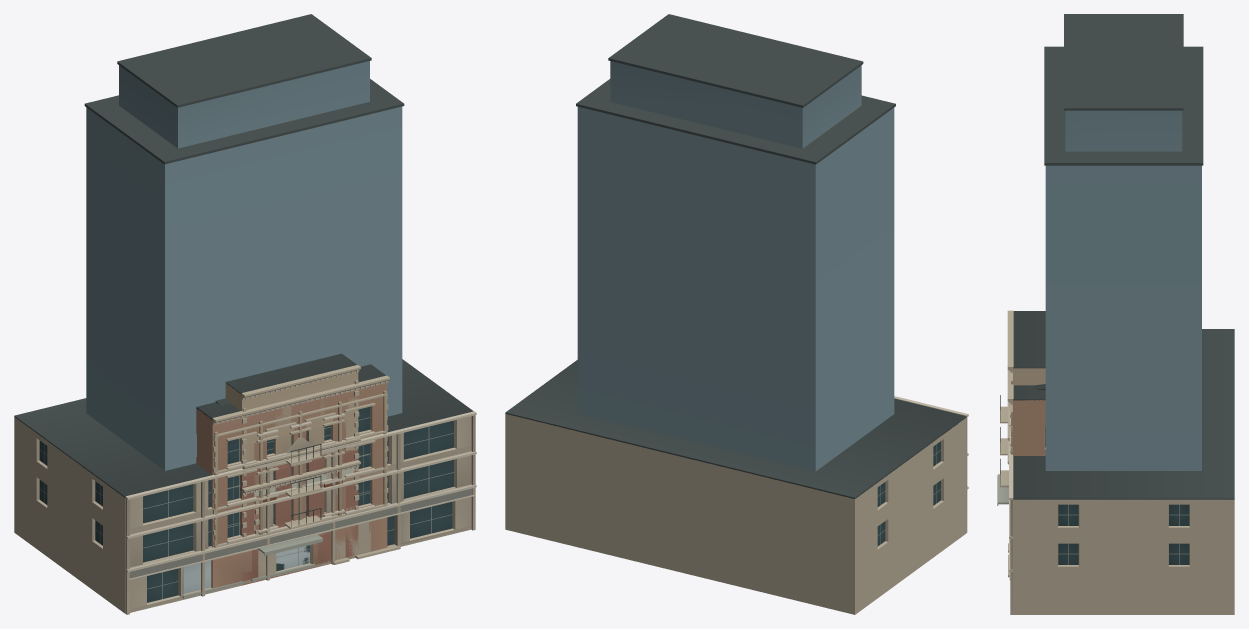
The model's file is dundas-buildings.glb.
3 renders of one model, left to right at view 1: azimuth 30°, elevation 25°; view 2: azimuth 150°, elevation 25°; view 3: azimuth 270°, elevation 25°, orthographic.
Parts seen in each view (by area): view 1: Building_office__Architecture_OfficeGlass, Building_office__Architecture_Slate, Building_office__Architecture_Limestone, Building_office__Architecture_WindowGlass, Building_factory__Architecture_BuildingBrick1, Building_office__Architecture_CarvedStone, Building_factory__Architecture_Limestone, Building_apartment__Architecture_BuildingBrick2, Building_victorian__Architecture_BuildingBrick0, Building_office__Architecture_Sash, Building_apartment__Architecture_Limestone, Building_apartment__Architecture_Slate (+10 smaller); view 2: Building_office__Architecture_OfficeGlass, Building_office__Architecture_Limestone, Building_office__Architecture_Slate, Building_office__Architecture_WindowGlass; view 3: Building_office__Architecture_OfficeGlass, Building_office__Architecture_Slate, Building_office__Architecture_Limestone, Building_apartment__Architecture_Slate, Building_office__Architecture_WindowGlass, Building_factory__Architecture_BuildingBrick1, Building_apartment__Architecture_Limestone, Building_apartment__Architecture_BuildingBrick2, Building_factory__Architecture_Slate, Building_office__Architecture_CarvedStone, Building_factory__Architecture_Limestone.
Part boxes in pixels (bbox=[...]): Building_office__Architecture_OfficeGlass: bbox=[86, 61, 402, 470]; Building_office__Architecture_Slate: bbox=[14, 14, 473, 497]; Building_office__Architecture_Limestone: bbox=[14, 415, 475, 614]; Building_office__Architecture_WindowGlass: bbox=[39, 420, 453, 602]; Building_factory__Architecture_BuildingBrick1: bbox=[196, 383, 387, 590]; Building_office__Architecture_CarvedStone: bbox=[125, 411, 476, 580]; Building_factory__Architecture_Limestone: bbox=[212, 375, 389, 563]; Building_apartment__Architecture_BuildingBrick2: bbox=[225, 372, 358, 535]; Building_victorian__Architecture_BuildingBrick0: bbox=[240, 449, 358, 585]; Building_office__Architecture_Sash: bbox=[39, 427, 472, 598]; Building_apartment__Architecture_Limestone: bbox=[241, 365, 360, 528]; Building_apartment__Architecture_Slate: bbox=[225, 353, 356, 394]; Building_office__Architecture_OfficeGlass: bbox=[577, 61, 894, 471]; Building_office__Architecture_Limestone: bbox=[505, 414, 967, 614]; Building_office__Architecture_Slate: bbox=[505, 14, 966, 498]; Building_office__Architecture_WindowGlass: bbox=[877, 441, 940, 546]; Building_office__Architecture_OfficeGlass: bbox=[1045, 110, 1201, 470]; Building_office__Architecture_Slate: bbox=[1013, 14, 1234, 499]; Building_office__Architecture_Limestone: bbox=[1008, 499, 1234, 614]; Building_apartment__Architecture_Slate: bbox=[1013, 311, 1045, 368]; Building_office__Architecture_WindowGlass: bbox=[1058, 504, 1189, 564]; Building_factory__Architecture_BuildingBrick1: bbox=[1013, 400, 1045, 455]; Building_apartment__Architecture_Limestone: bbox=[1000, 310, 1013, 487]; Building_apartment__Architecture_BuildingBrick2: bbox=[1013, 368, 1045, 385]; Building_factory__Architecture_Slate: bbox=[1013, 384, 1045, 400]; Building_office__Architecture_CarvedStone: bbox=[1009, 441, 1013, 579]; Building_factory__Architecture_Limestone: bbox=[1007, 369, 1045, 561].
Bounding box in the file's own units: 30.8 × 39.7 × 18.2.
